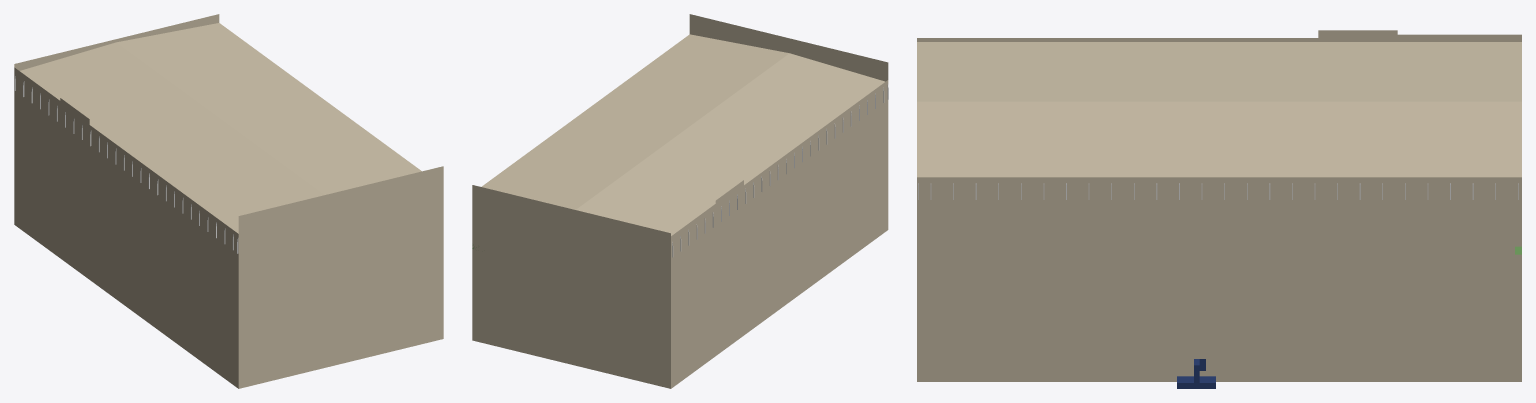
Rendered from Halle61.dae.
3 renders of one model, left to right at view 1: azimuth 30°, elevation 25°; view 2: azimuth 150°, elevation 25°; view 3: azimuth 270°, elevation 25°, orthographic. The views are drawn at different scales.
Visible parts, largest first — view 1: Halle61; view 2: Halle61; view 3: Halle61, Cube.005.
Part boxes in pixels (x1=…): Halle61: x1=14, y1=14, x2=443, y2=388; Halle61: x1=472, y1=14, x2=888, y2=388; Halle61: x1=917, y1=30, x2=1521, y2=381; Cube.005: x1=1177, y1=359, x2=1215, y2=388.
Size of the model in its own units: 23.55 by 42.42 by 18.31.
